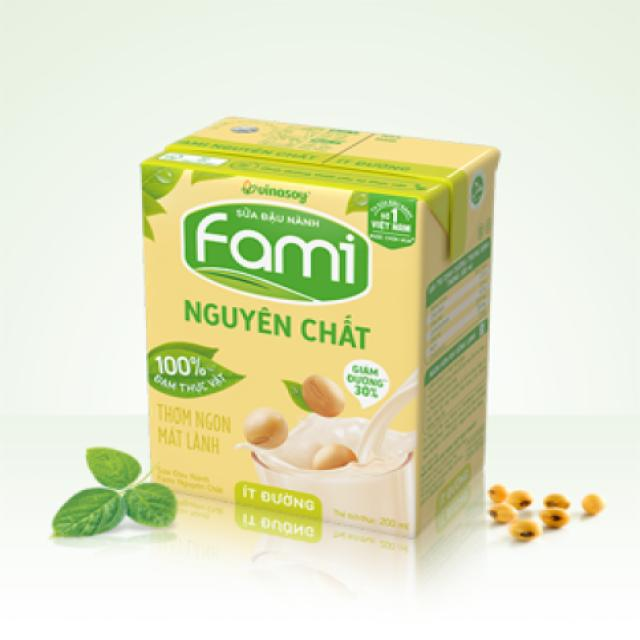Fami: (135, 118, 504, 550)
